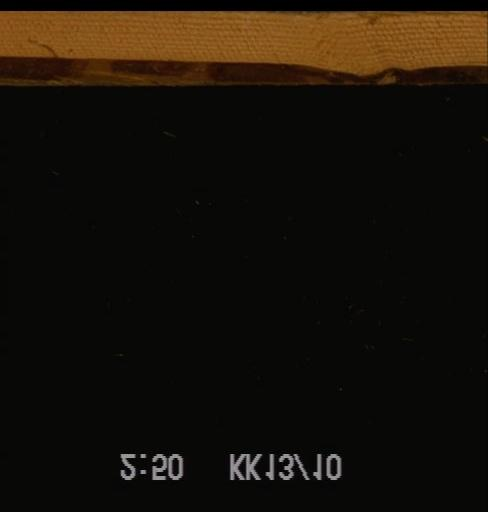wave: (0, 58, 486, 85)
